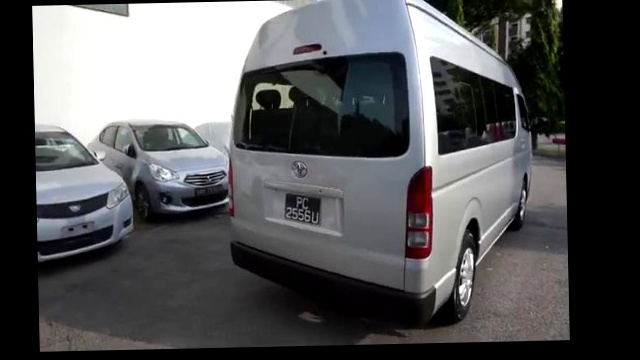van: (217, 0, 535, 332)
